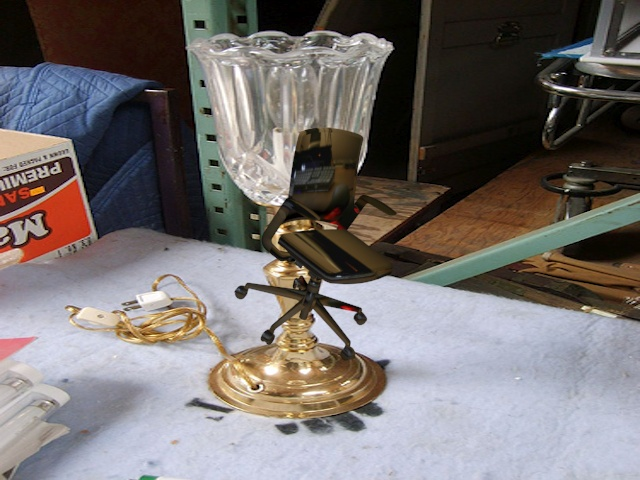desk_chair: (225, 113, 401, 368)
